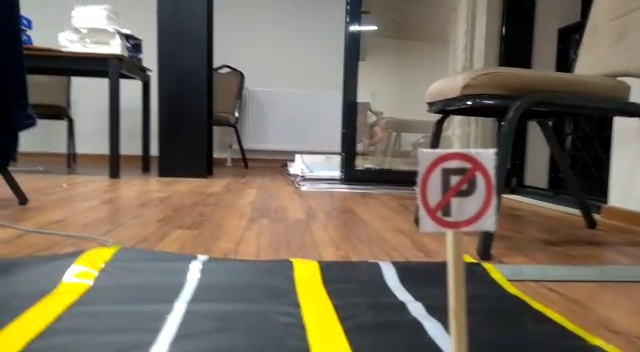park_yapilmaz: (417, 147, 498, 230)
